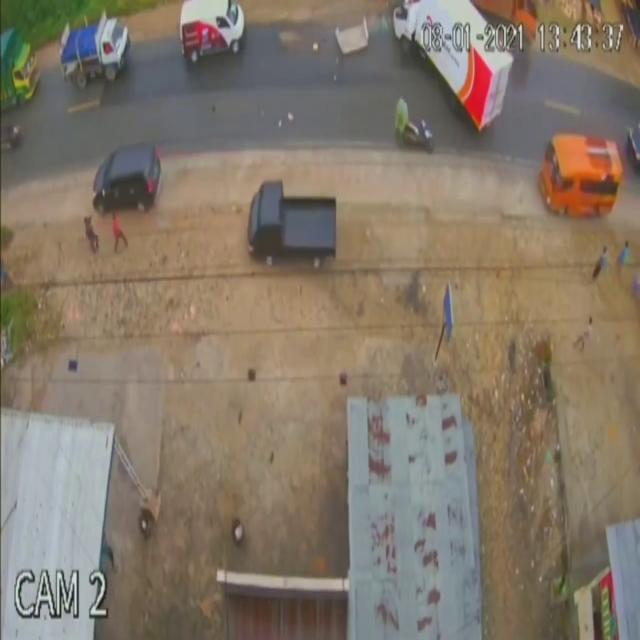normal: (0, 0, 269, 129), (237, 176, 349, 277), (60, 146, 171, 211), (540, 116, 637, 186)
single accident: (367, 0, 561, 119)
